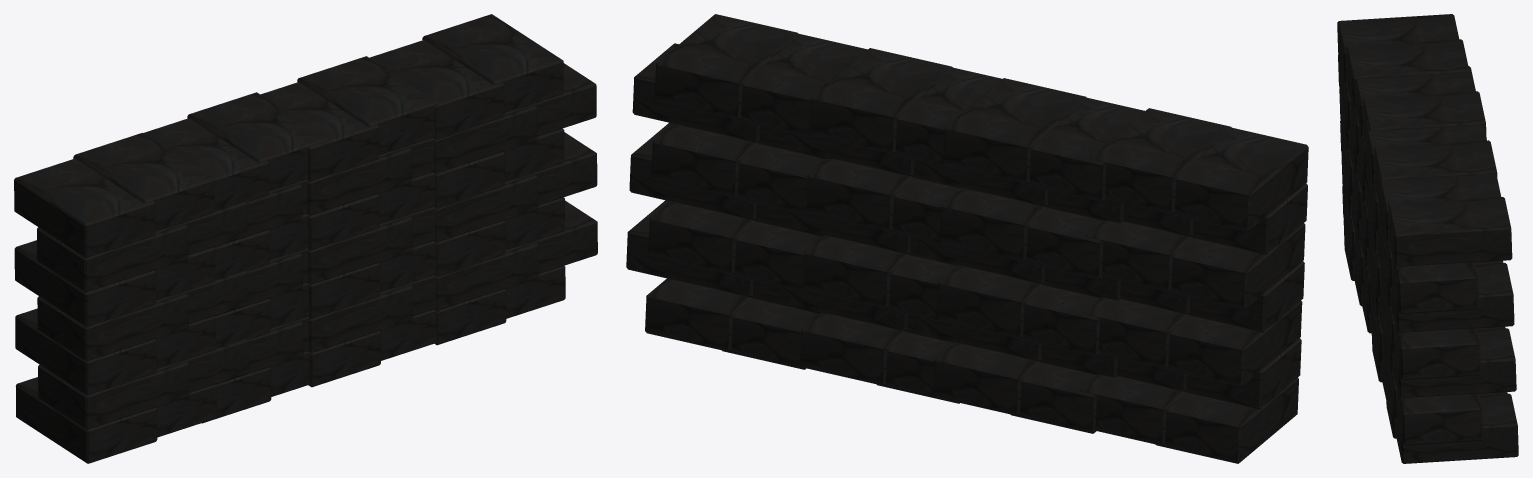
File: part of temple.fbx
The picture shows the model from 3 angles, left to right: view 1: azimuth 30°, elevation 25°; view 2: azimuth 150°, elevation 25°; view 3: azimuth 270°, elevation 25°; orthographic projection. The views are drawn at different scales.
Parts seen in each view (by area): view 1: polySurface238, polySurface263, polySurface237, polySurface204, polySurface247, polySurface261, polySurface226, polySurface241, polySurface236, polySurface220, polySurface243, polySurface240 (+41 smaller); view 2: polySurface238, polySurface263, polySurface247, polySurface204, polySurface237, polySurface261, polySurface243, polySurface244, polySurface240, polySurface228, polySurface257, polySurface231 (+41 smaller); view 3: polySurface263, polySurface237, polySurface204, polySurface247, polySurface264, polySurface255, polySurface262, polySurface257, polySurface256, polySurface254, polySurface238, polySurface261 (+32 smaller).
Boxes of the visible parts, bbox=[...] form: polySurface238: bbox=[14, 158, 155, 257]; polySurface263: bbox=[422, 14, 563, 112]; polySurface237: bbox=[73, 132, 214, 231]; polySurface204: bbox=[297, 56, 438, 154]; polySurface247: bbox=[187, 92, 328, 190]; polySurface261: bbox=[369, 40, 504, 138]; polySurface226: bbox=[37, 293, 188, 361]; polySurface241: bbox=[38, 362, 189, 429]; polySurface236: bbox=[37, 224, 188, 292]; polySurface220: bbox=[260, 82, 379, 181]; polySurface243: bbox=[14, 240, 155, 326]; polySurface240: bbox=[15, 377, 157, 463]; polySurface238: bbox=[1165, 127, 1308, 231]; polySurface263: bbox=[654, 14, 799, 119]; polySurface247: bbox=[943, 78, 1087, 183]; polySurface204: bbox=[809, 48, 953, 153]; polySurface237: bbox=[1090, 108, 1232, 213]; polySurface261: bbox=[731, 34, 867, 137]; polySurface243: bbox=[1162, 223, 1305, 309]; polySurface244: bbox=[1159, 300, 1302, 386]; polySurface240: bbox=[1155, 377, 1298, 463]; polySurface228: bbox=[1020, 97, 1144, 201]; polySurface257: bbox=[651, 124, 758, 197]; polySurface231: bbox=[940, 188, 1047, 261]; polySurface263: bbox=[1388, 197, 1512, 266]; polySurface237: bbox=[1346, 39, 1469, 109]; polySurface204: bbox=[1373, 140, 1497, 203]; polySurface247: bbox=[1362, 91, 1486, 137]; polySurface264: bbox=[1389, 241, 1478, 314]; polySurface255: bbox=[1391, 307, 1481, 379]; polySurface262: bbox=[1393, 373, 1483, 445]; polySurface257: bbox=[1391, 263, 1514, 332]; polySurface256: bbox=[1395, 393, 1518, 463]; polySurface254: bbox=[1393, 328, 1516, 398]; polySurface238: bbox=[1337, 14, 1459, 83]; polySurface261: bbox=[1379, 173, 1501, 241].
Bounding box in the file's own units: 1853 × 842 × 563.
1 material, 1 textured.
